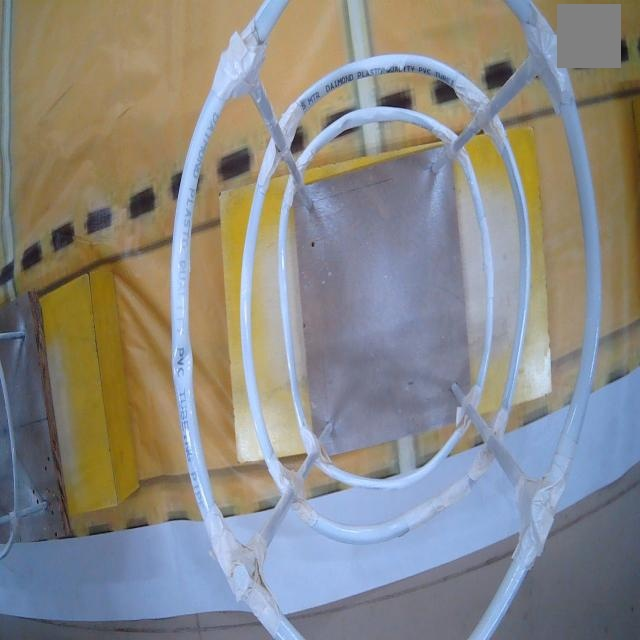silo: (141, 0, 618, 640)
